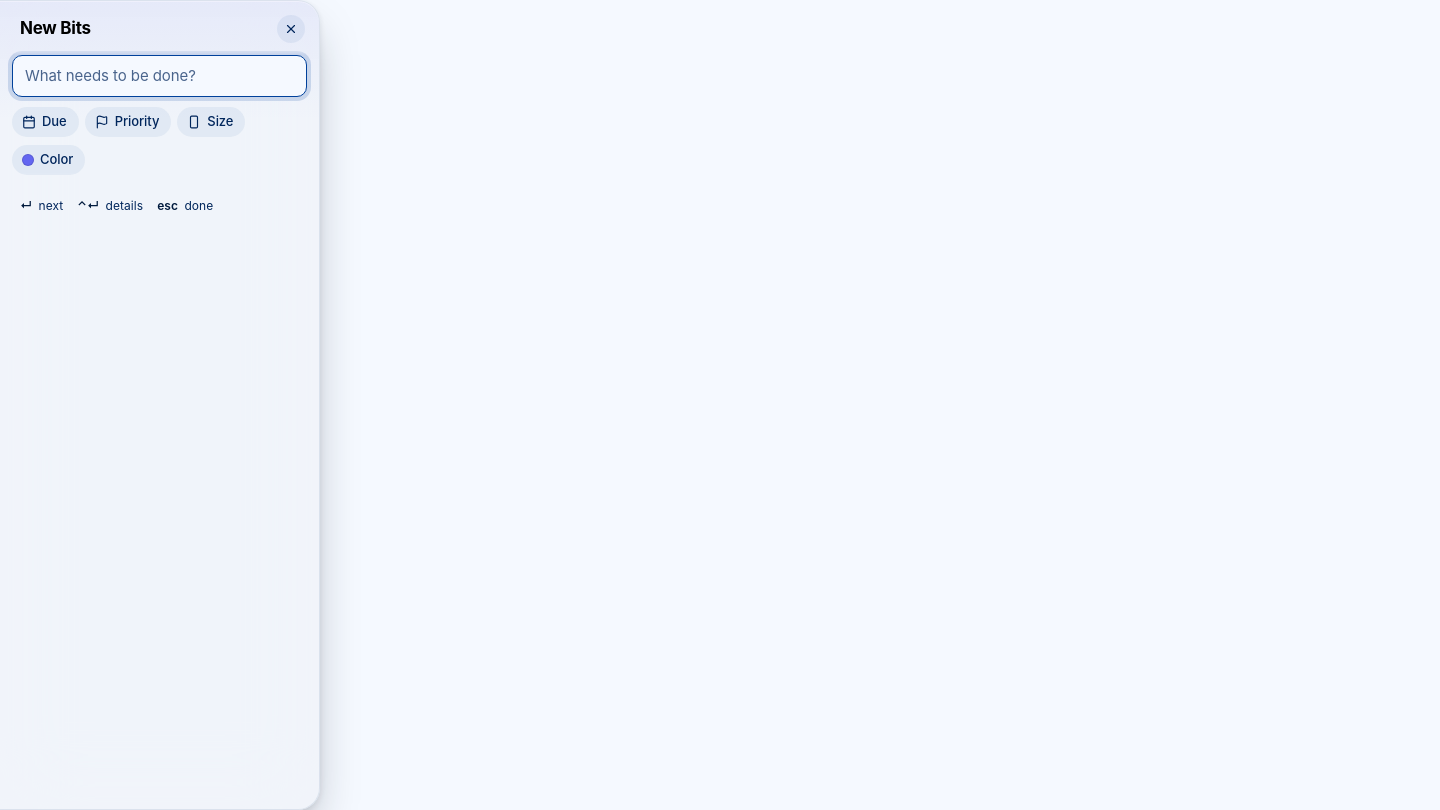
Test: Capture-Ansicht › bietet an einem Chip mit Token „Clear“: das Token verschwindet aus dem Text
The image size is (1440, 810).
Type "Bericht morgen schreiben ~m" into the field with placeholder "What needs to be done?". click: (160, 76)
box: x1=13 y1=56 x2=306 y2=96
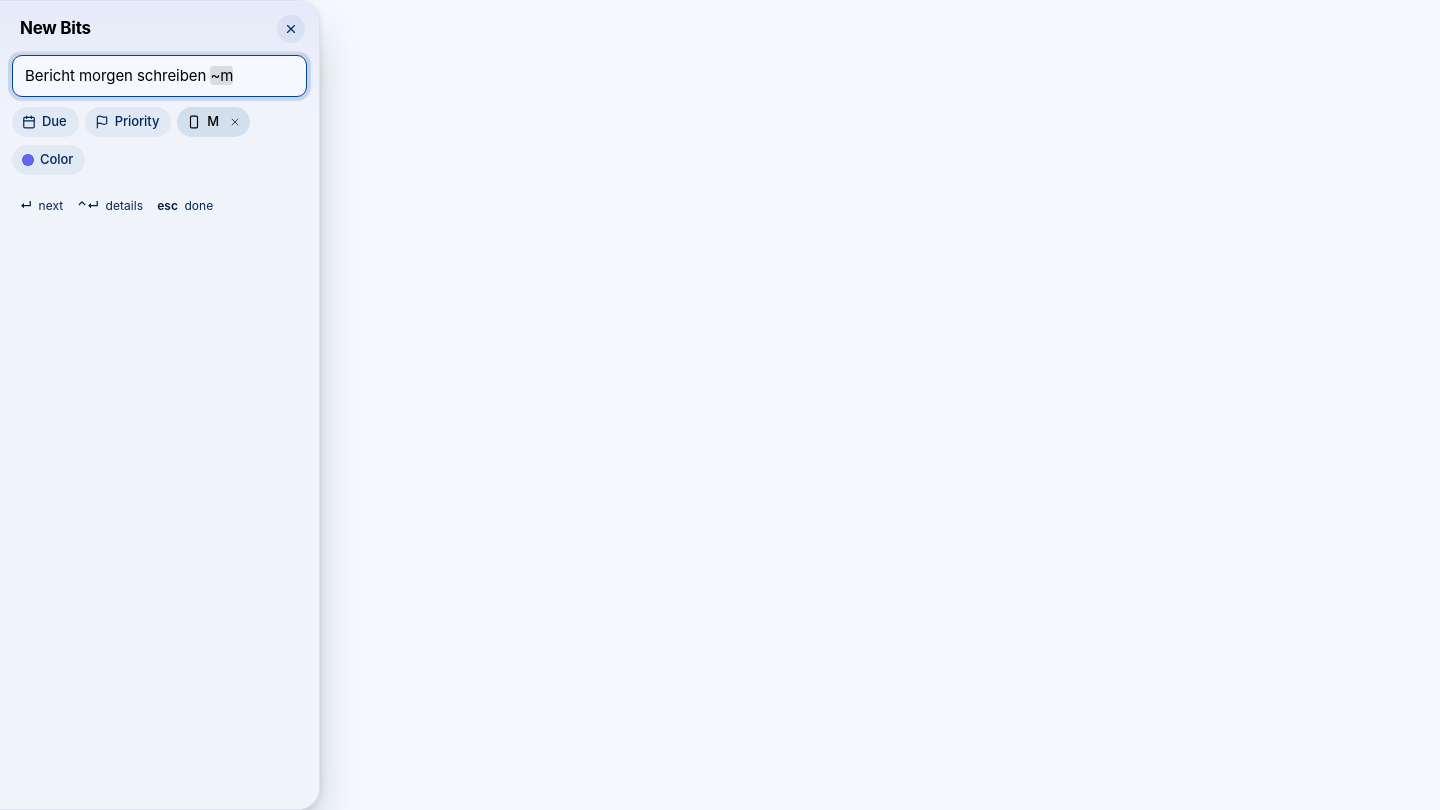
Click the button "M". click: (201, 122)
box: x1=177 y1=107 x2=225 y2=137
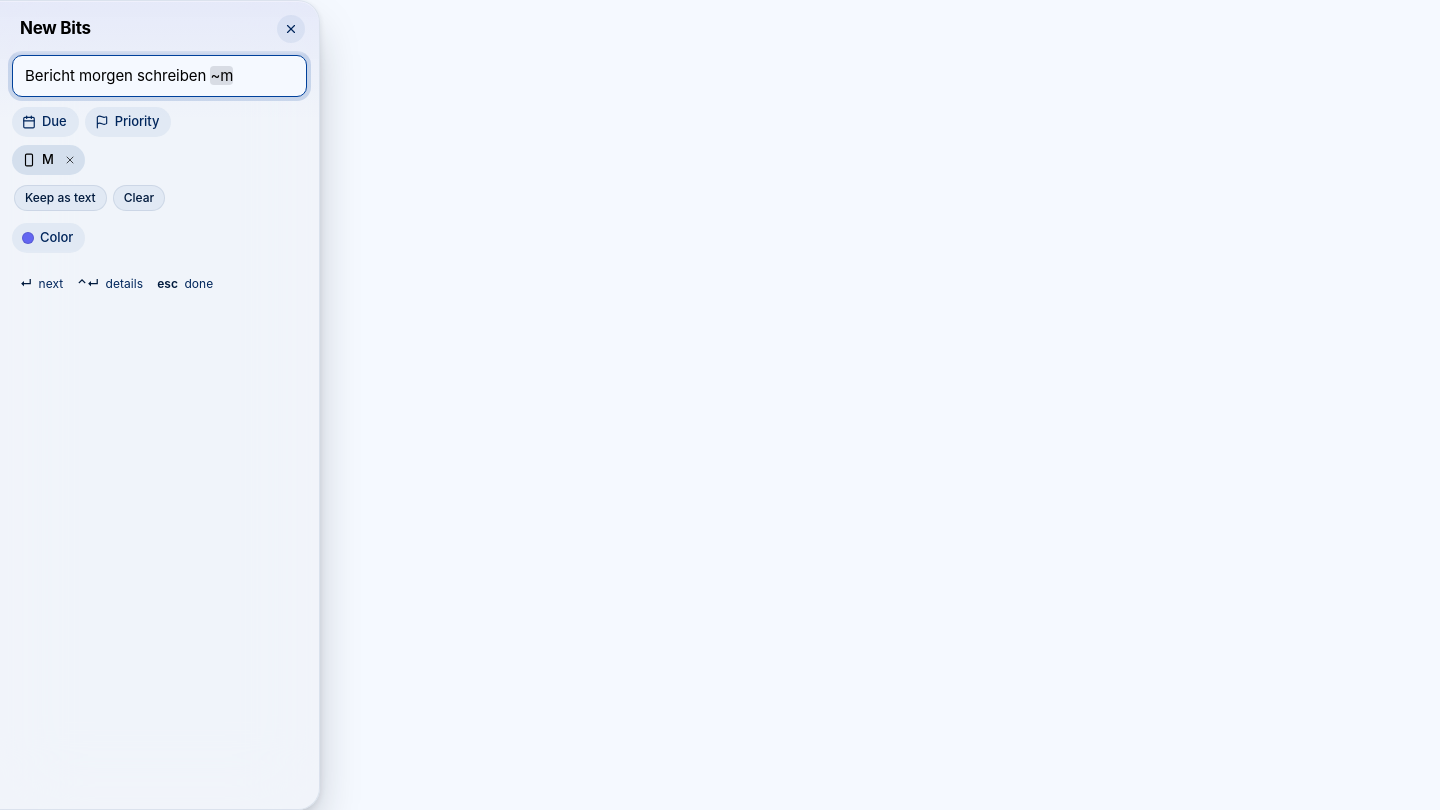
Click the button "Clear". click: (139, 198)
box: x1=113 y1=185 x2=165 y2=211
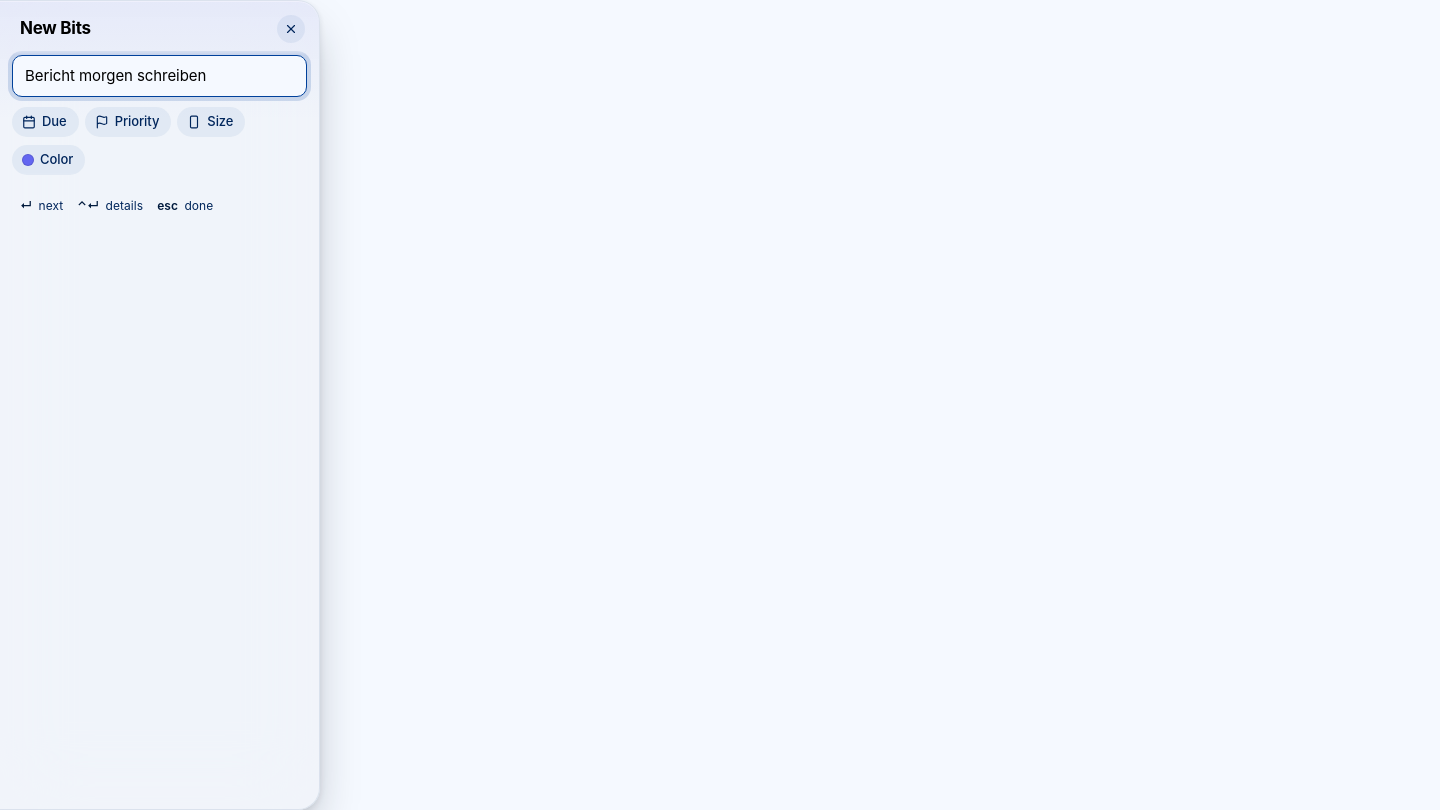
expect the field named "New bit title" holds "Bericht morgen schreiben": met, box x1=13 y1=56 x2=306 y2=96
